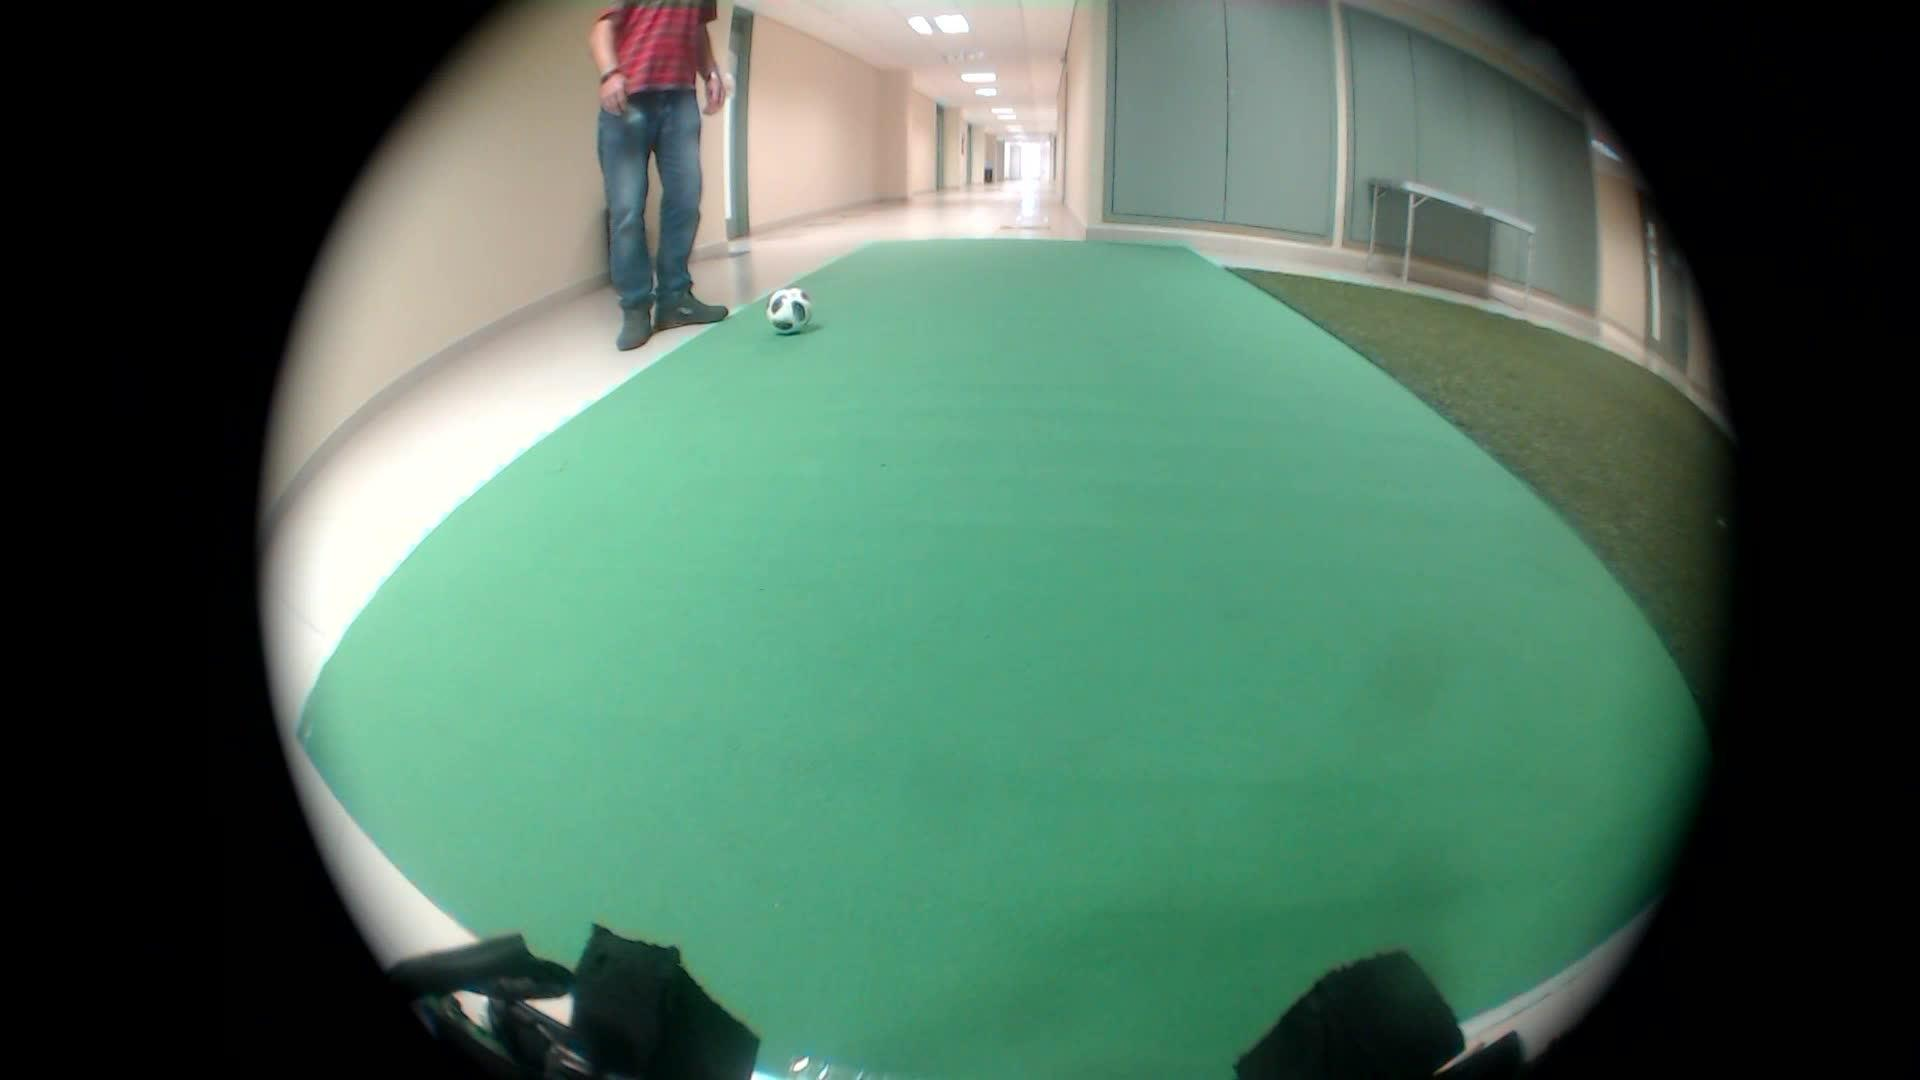ball: (765, 285, 823, 345)
